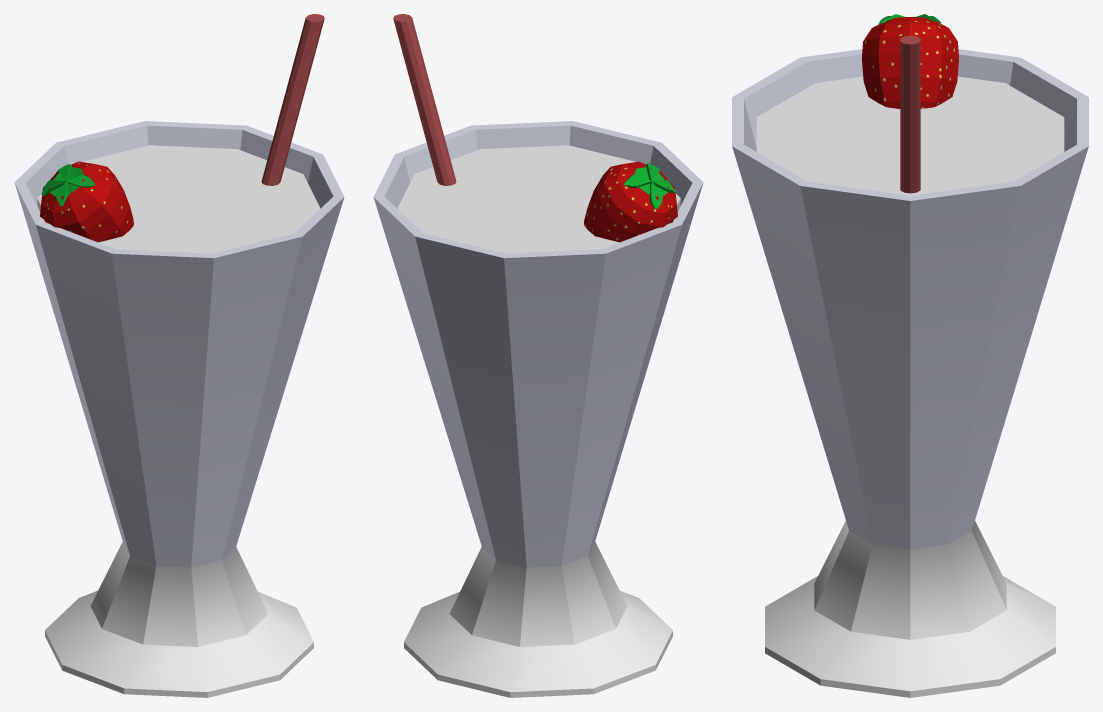
File: Milkshake.fbx
3 renders of one model, left to right at view 1: azimuth 30°, elevation 25°; view 2: azimuth 150°, elevation 25°; view 3: azimuth 270°, elevation 25°, orthographic. The views are drawn at different scales.
Parts seen in each view (by area): view 1: Milkshake; view 2: Milkshake; view 3: Milkshake.
Part boxes in pixels (x1,y1,x2,y2): Milkshake: [14, 14, 344, 697]; Milkshake: [373, 14, 703, 697]; Milkshake: [732, 14, 1088, 697].
Bounding box in the file's own units: 12.18 × 23.9 × 11.57.
8 materials, 1 textured.
